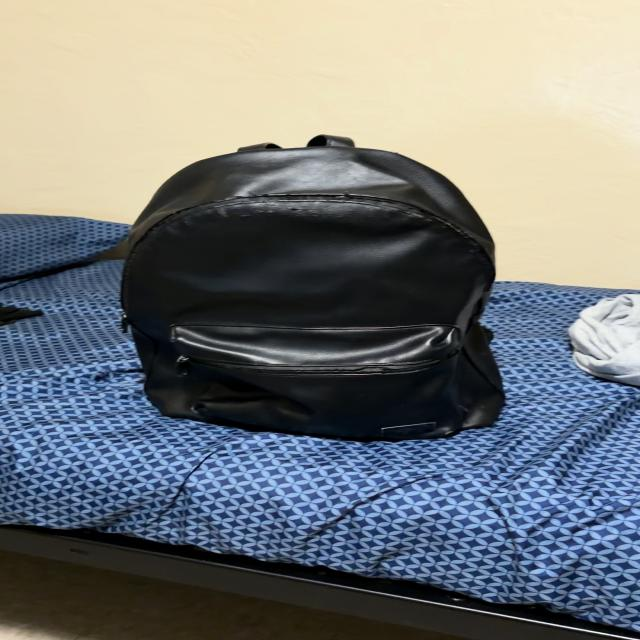backpack: (122, 136, 503, 439)
